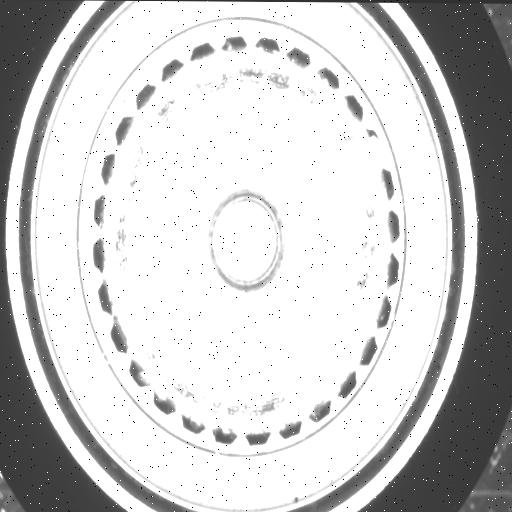gear: (88, 25, 408, 457)
